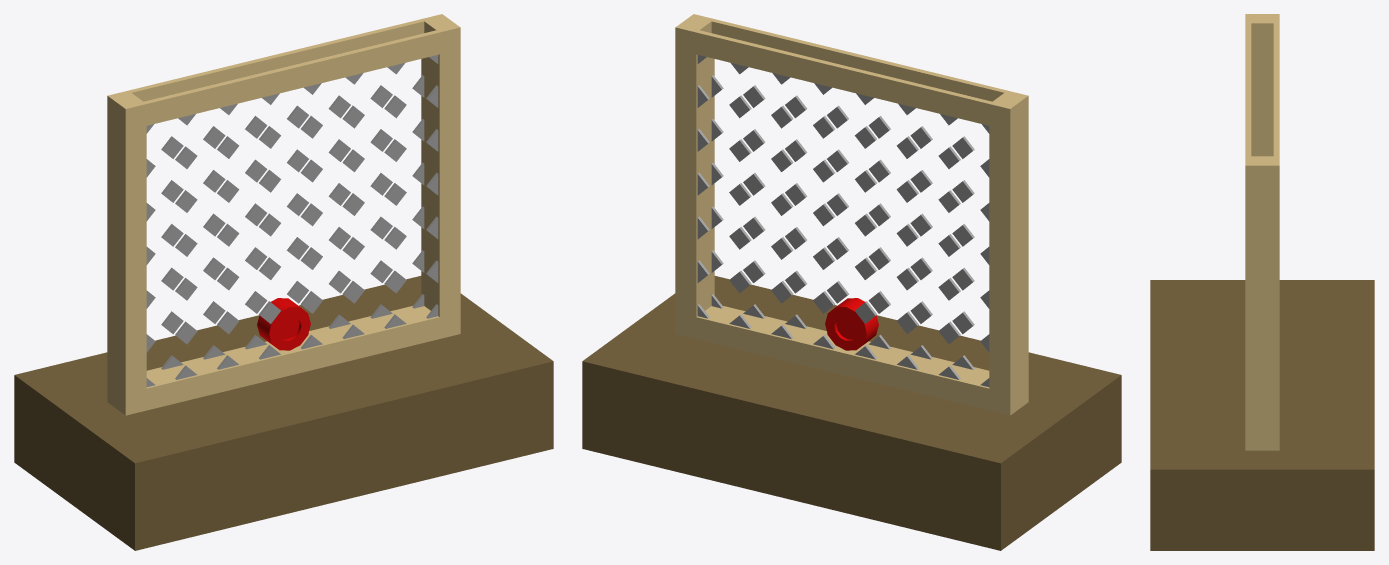
The model's file is GameBoard.fbx.
3 views of the same model, side by side, from view 1: azimuth 30°, elevation 25°; view 2: azimuth 150°, elevation 25°; view 3: azimuth 270°, elevation 25° (orthographic). The views are drawn at different scales.
Visible parts, largest first — view 1: board, piece; view 2: board, piece; view 3: board.
Part boxes in pixels (x1,y1,x2,y2): board: [14, 14, 553, 550]; piece: [257, 298, 310, 350]; board: [582, 14, 1121, 550]; piece: [825, 298, 878, 350]; board: [1150, 14, 1374, 550].
Bounding box in the file's own units: 200 × 180 × 100.
